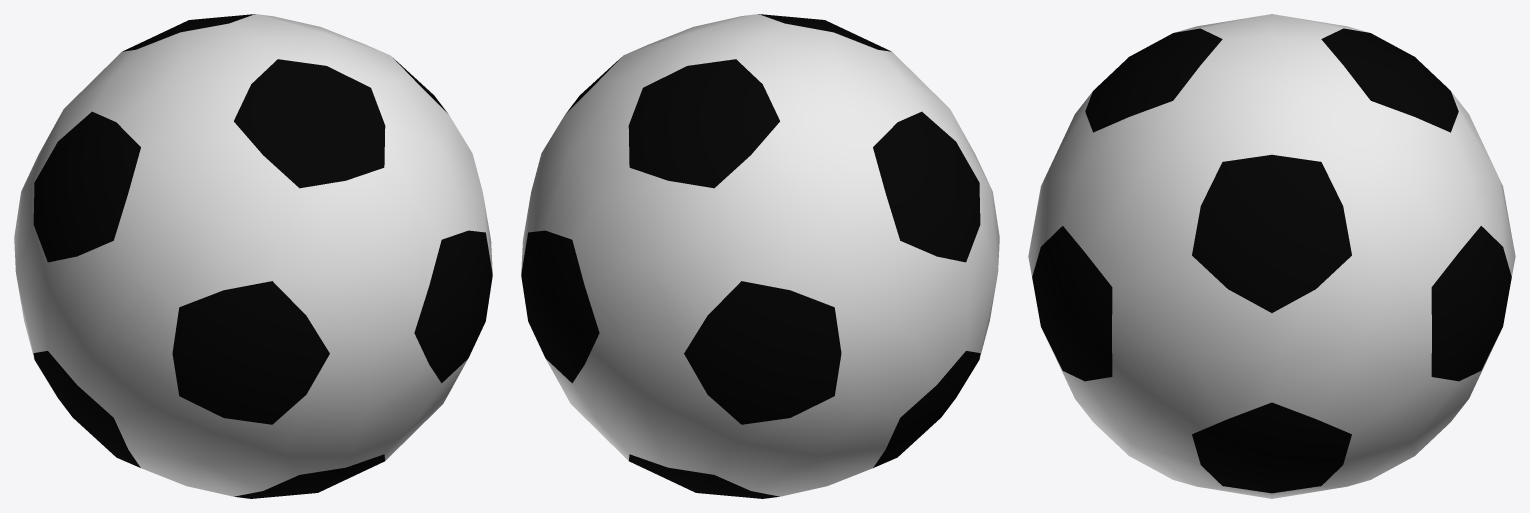
Rendered from BasuraPelota.FBX.
3 renders of one model, left to right at view 1: azimuth 30°, elevation 25°; view 2: azimuth 150°, elevation 25°; view 3: azimuth 270°, elevation 25°, orthographic.
Visible parts, largest first — view 1: Object014; view 2: Object014; view 3: Object014.
Boxes of the visible parts, bbox=[...] form: Object014: bbox=[14, 14, 492, 498]; Object014: bbox=[521, 14, 999, 498]; Object014: bbox=[1028, 14, 1515, 498].
Size of the model in its own units: 56.2 by 56.2 by 56.2.
